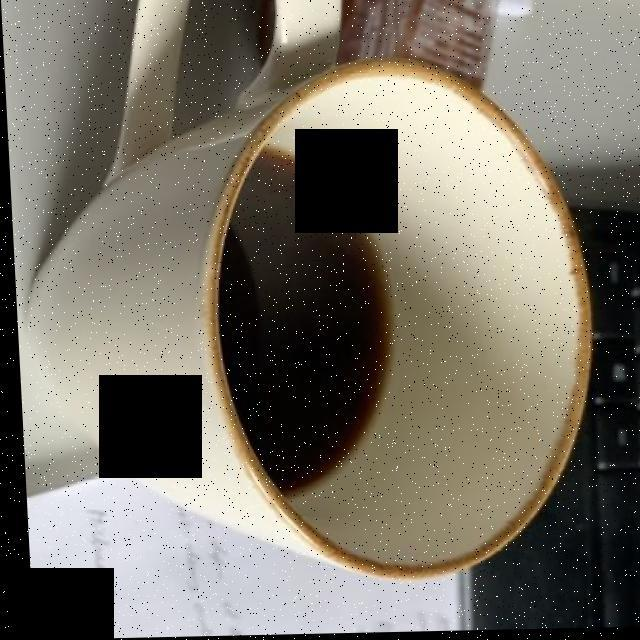coffee: (217, 161, 384, 492)
